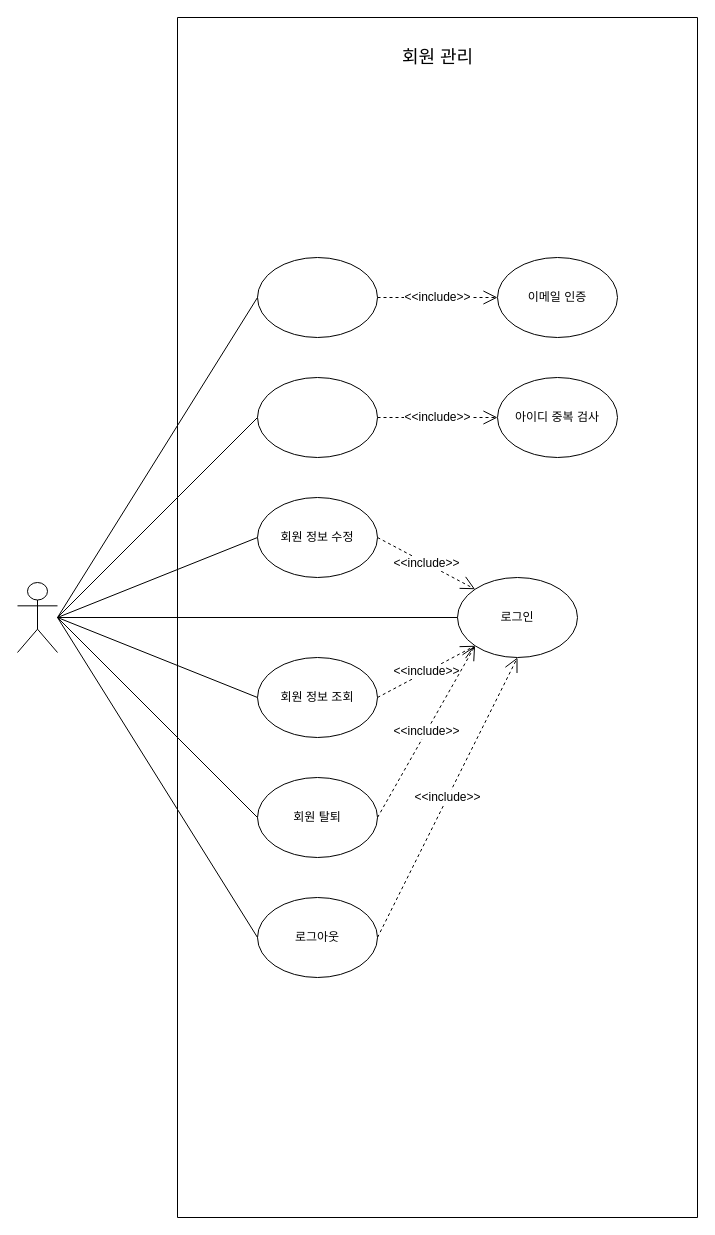
Some shapes in this 715 by 1235 pixel diagram are drawn without their labels. Each missing label, with the centre of its shape:
비밀번호 찾기: the point at 317,297
사용자: the point at 37,617
회원 가입: the point at 317,417
